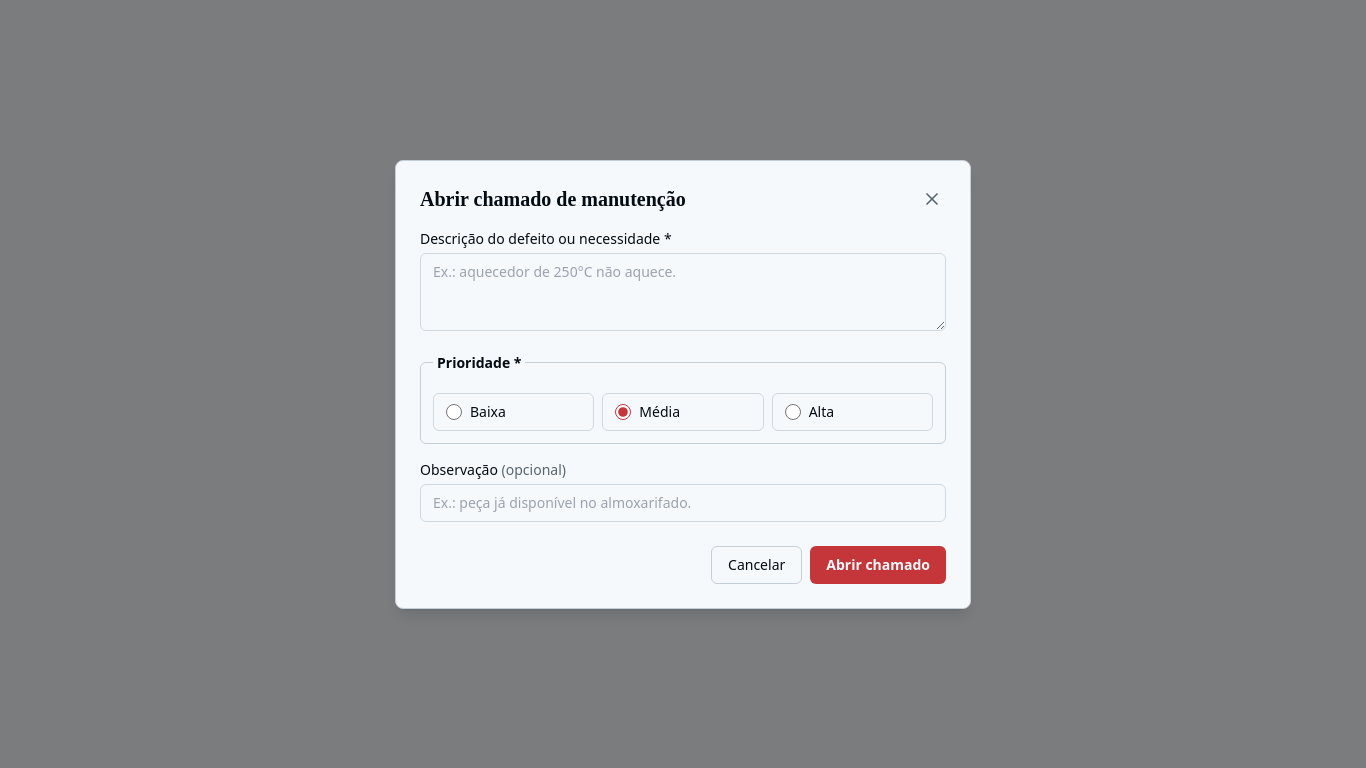
Test case: ChamadoForm › exibe erro quando a descrição está vazia
Click the button "Abrir chamado" at [878, 564], box [810,546,946,584]
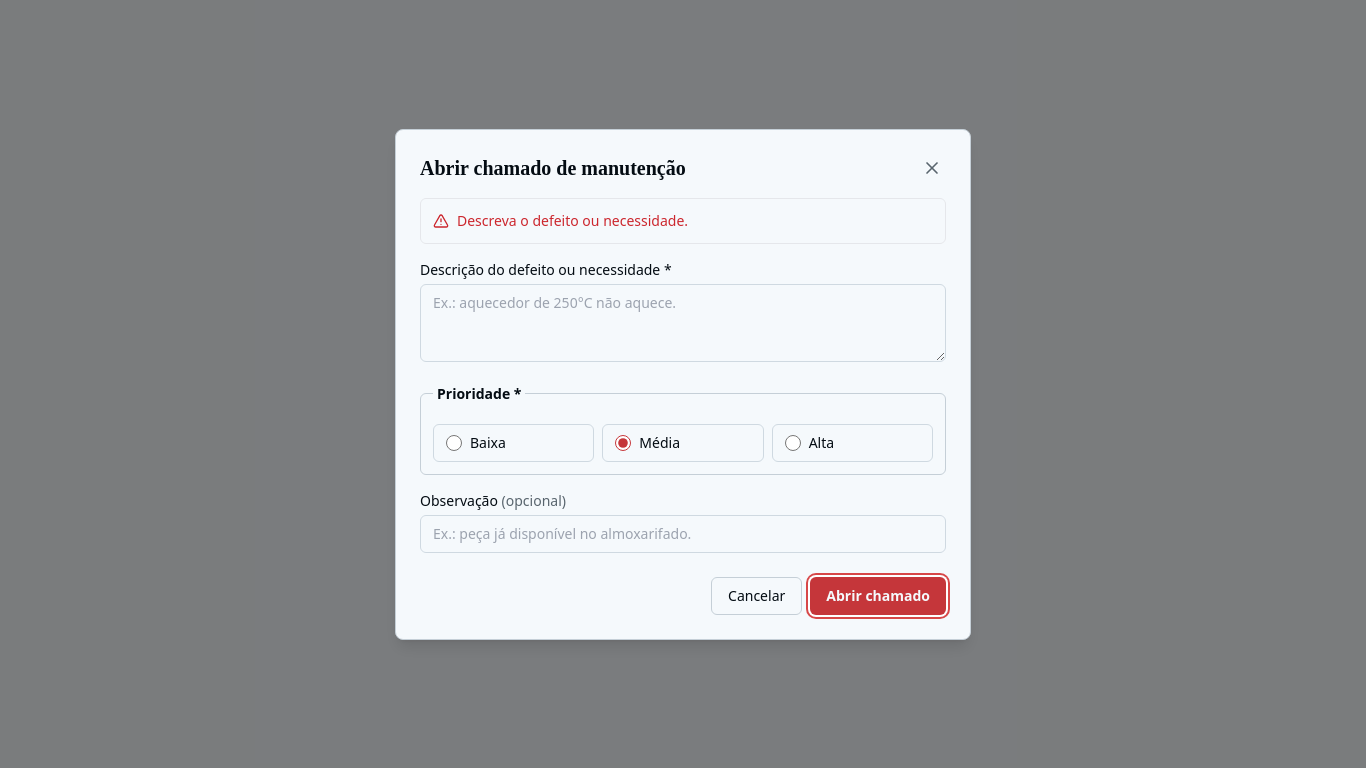
Now the text "Descreva o defeito ou necessidade." is shown, box [457,210,688,230]
